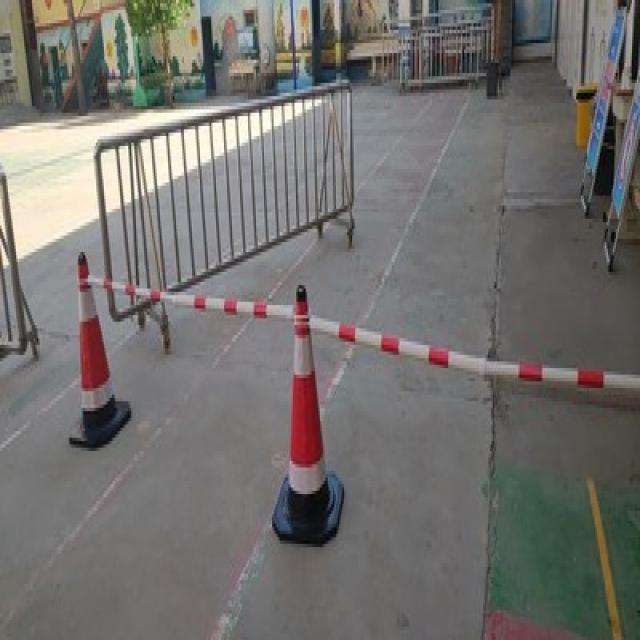reflective_cone: (270, 282, 344, 540), (62, 249, 132, 444)
